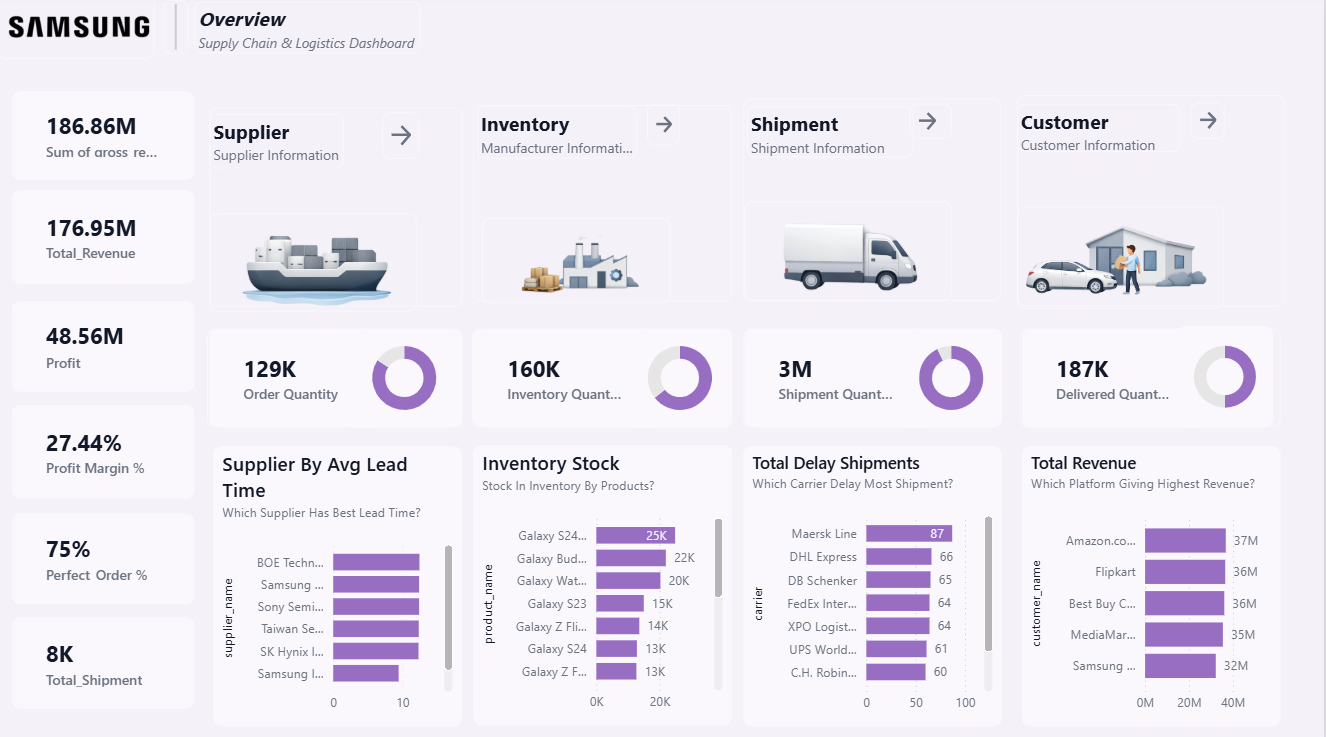

Layout of this report page (visuals, bound fields, positions):
{"tool":"powerbi","page":{"name":"Overview","canvas":[1280,720],"ordinal":1},"visuals":[{"type":"shape","box":[205.1,108.6,243.7,191.8],"z":0},{"type":"shape","box":[459.7,106.2,249.7,189.4],"z":1000},{"type":"shape","box":[720.2,100.1,248.5,195.4],"z":2000},{"type":"shape","box":[984.5,96.5,258.2,203.9],"z":3000},{"type":"group","id":"g1","title":"Group 1","box":[463.3,105,196.6,193],"z":4000},{"type":"image","box":[205.5,211,200.3,94.2],"z":4000,"group":"g2"},{"type":"group","id":"g2","title":"Group 2","box":[205.1,113.4,200.3,191.8],"z":5000},{"type":"image","box":[721.5,199.5,200.3,96.1],"z":5000,"group":"g3"},{"type":"image","box":[468,214.5,181.9,83.5],"z":5000,"group":"g1"},{"type":"group","id":"g3","title":"Group 3","box":[721.5,105,200.3,190.6],"z":6000},{"type":"image","box":[984.5,203.8,200.3,99.1],"z":6000,"group":"g4"},{"type":"group","id":"g4","title":"Group 4","box":[984.5,103.8,200.3,199.1],"z":7000},{"type":"actionButton","box":[372,113.4,36.2,44.9],"z":7000,"group":"g2"},{"type":"group","id":"g5","title":"Group 5","box":[0,0,409,61.5],"z":8000},{"type":"actionButton","box":[880.6,105,41.1,33.7],"z":8000,"group":"g3"},{"type":"actionButton","box":[1151.8,103.8,32.9,35],"z":9000,"group":"g4"},{"type":"cardVisual","fields":{"Data":["MeasuresTable.Total_Revenue"]},"box":[14.5,188.2,176.1,90.5],"z":9000},{"type":"actionButton","box":[627.7,105,32.2,39.9],"z":10000,"group":"g1"},{"type":"shape","title":"Supplier","box":[205.1,114.5,129.7,52.6],"z":10000,"group":"g2"},{"type":"cardVisual","fields":{"Data":["MeasuresTable.Profit"]},"box":[14.5,295.6,176.1,86.9],"z":10000},{"type":"shape","title":"Shipment","box":[723.4,107.5,160.5,49.5],"z":11000,"group":"g3"},{"type":"cardVisual","fields":{"Data":["MeasuresTable.Profit Margin %"]},"box":[14.5,395.7,176.1,90.5],"z":11000},{"type":"shape","title":"Customer","box":[984.5,105.5,157.8,46.1],"z":12000,"group":"g4"},{"type":"cardVisual","fields":{"Data":["MeasuresTable.Perfect_Order %"]},"box":[14.5,500.7,176.1,86.9],"z":12000},{"type":"shape","title":"Overview","box":[190.6,6,218.4,50.7],"z":13000,"group":"g5"},{"type":"cardVisual","fields":{"Data":["Sum(fact_sales.gross_revenue)"]},"box":[14.5,92.9,176.1,85.7],"z":13000},{"type":"shape","title":"Inventory","box":[463.3,106.9,154.3,50.1],"z":13000,"group":"g1"},{"type":"shape","box":[160.5,4.8,24.1,51.9],"z":14000,"group":"g5"},{"type":"cardVisual","fields":{"Data":["MeasuresTable.Total_Shipment"]},"box":[14.5,600.8,176.1,88.1],"z":14000},{"type":"image","box":[0,0,152,61.5],"z":15000,"group":"g5"},{"type":"shape","box":[202.7,322.1,246.1,95.3],"z":15000},{"type":"shape","box":[458.4,322.1,250.9,95.3],"z":16000},{"type":"shape","box":[720.2,322.1,248.5,95.3],"z":17000},{"type":"shape","box":[986.9,322.1,252.1,95.3],"z":18000},{"type":"cardVisual","fields":{"Data":["MeasuresTable.Order_QTY"]},"box":[205.1,322.1,165.3,95.3],"z":19000},{"type":"cardVisual","fields":{"Data":["MeasuresTable.Inventory_Value"]},"box":[459.7,322.1,179.8,95.3],"z":20000},{"type":"cardVisual","fields":{"Data":["MeasuresTable.Total_Shipment_Quantity"]},"box":[721.5,322.1,179.8,95.3],"z":21000},{"type":"cardVisual","fields":{"Data":["MeasuresTable.Total_Delivered_Quantity"]},"box":[989.3,322.1,178.6,95.3],"z":22000},{"type":"clusteredBarChart","title":"Supplier By Avg Lead Time ","fields":{"Y":["MeasuresTable.Avg_Lead_Time"],"Category":["dim_supplier.supplier_name"]},"box":[208.7,435.5,240.1,270.2],"z":23000},{"type":"clusteredBarChart","title":"Inventory Stock","fields":{"Y":["MeasuresTable.Inventory_Value"],"Category":["dim_product.product_name"]},"box":[459.7,434.3,249.7,270],"z":24000},{"type":"clusteredBarChart","title":"Total Delay Shipments","fields":{"Y":["MeasuresTable.Total_Delay"],"Category":["fact_shipment.carrier"]},"box":[720.2,435.5,249.7,270],"z":25000},{"type":"clusteredBarChart","title":"Total Revenue ","fields":{"Y":["MeasuresTable.Total_Revenue"],"Category":["dim_customer.customer_name"]},"box":[989.3,435.5,249.7,270],"z":26000},{"type":"donutChart","fields":{"Y":["MeasuresTable.Inventory_Value","MeasuresTable.Safety_Stock"]},"box":[609.3,322.1,100.1,95.3],"z":27000},{"type":"donutChart","fields":{"Y":["MeasuresTable.Total_Shipment","MeasuresTable.Total_Delay"]},"box":[872.3,322.1,97.7,95.3],"z":28000},{"type":"donutChart","fields":{"Y":["MeasuresTable.Total_Delivered_Quantity","MeasuresTable.Total_Qty_Delay"]},"box":[1138.9,319.7,92.9,97.7],"z":29000},{"type":"donutChart","fields":{"Y":["MeasuresTable.Order_QTY","MeasuresTable.Defect_Rate"]},"box":[337.8,322.1,111,95.3],"z":30000}]}

Visuals, with their boxes in screenshot pixels (x1, y1, x2, y2), scaled from the page's 1280x720 canvas onto the 1326x737 screenshot:
shape: bbox(212, 111, 465, 307)
shape: bbox(476, 109, 735, 303)
shape: bbox(746, 102, 1004, 302)
shape: bbox(1020, 99, 1287, 307)
"Group 1" group: bbox(480, 107, 684, 305)
image: bbox(213, 216, 420, 312)
"Group 2" group: bbox(212, 116, 420, 312)
image: bbox(747, 204, 955, 303)
image: bbox(485, 220, 673, 305)
"Group 3" group: bbox(747, 107, 955, 303)
image: bbox(1020, 209, 1227, 310)
"Group 4" group: bbox(1020, 106, 1227, 310)
actionButton: bbox(385, 116, 423, 162)
"Group 5" group: bbox(0, 0, 424, 63)
actionButton: bbox(912, 107, 955, 142)
actionButton: bbox(1193, 106, 1227, 142)
cardVisual - MeasuresTable.Total_Revenue: bbox(15, 193, 197, 285)
actionButton: bbox(650, 107, 684, 148)
"Supplier" shape: bbox(212, 117, 347, 171)
cardVisual - MeasuresTable.Profit: bbox(15, 303, 197, 392)
"Shipment" shape: bbox(749, 110, 916, 161)
cardVisual - MeasuresTable.Profit Margin %: bbox(15, 405, 197, 498)
"Customer" shape: bbox(1020, 108, 1183, 155)
cardVisual - MeasuresTable.Perfect_Order %: bbox(15, 513, 197, 601)
"Overview" shape: bbox(197, 6, 424, 58)
cardVisual - Sum(fact_sales.gross_revenue): bbox(15, 95, 197, 183)
"Inventory" shape: bbox(480, 109, 640, 161)
shape: bbox(166, 5, 191, 58)
cardVisual - MeasuresTable.Total_Shipment: bbox(15, 615, 197, 705)
image: bbox(0, 0, 157, 63)
shape: bbox(210, 330, 465, 427)
shape: bbox(475, 330, 735, 427)
shape: bbox(746, 330, 1004, 427)
shape: bbox(1022, 330, 1284, 427)
cardVisual - MeasuresTable.Order_QTY: bbox(212, 330, 384, 427)
cardVisual - MeasuresTable.Inventory_Value: bbox(476, 330, 662, 427)
cardVisual - MeasuresTable.Total_Shipment_Quantity: bbox(747, 330, 934, 427)
cardVisual - MeasuresTable.Total_Delivered_Quantity: bbox(1025, 330, 1210, 427)
"Supplier By Avg Lead Time " clusteredBarChart: bbox(216, 446, 465, 722)
"Inventory Stock" clusteredBarChart: bbox(476, 445, 735, 721)
"Total Delay Shipments" clusteredBarChart: bbox(746, 446, 1005, 722)
"Total Revenue " clusteredBarChart: bbox(1025, 446, 1284, 722)
donutChart - MeasuresTable.Inventory_Value x MeasuresTable.Safety_Stock: bbox(631, 330, 735, 427)
donutChart - MeasuresTable.Total_Shipment x MeasuresTable.Total_Delay: bbox(904, 330, 1005, 427)
donutChart - MeasuresTable.Total_Delivered_Quantity x MeasuresTable.Total_Qty_Delay: bbox(1180, 327, 1276, 427)
donutChart - MeasuresTable.Order_QTY x MeasuresTable.Defect_Rate: bbox(350, 330, 465, 427)
